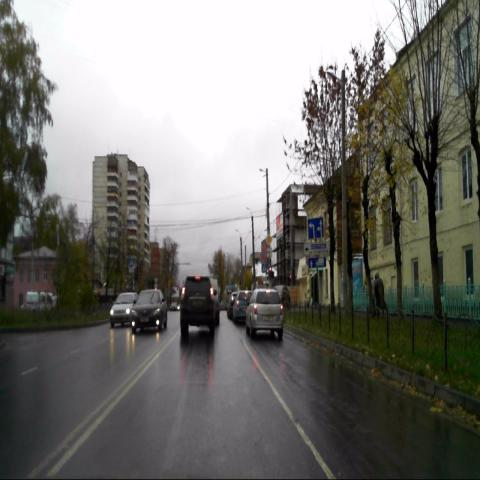5_15_2_2: (308, 218, 324, 239)
6_15_1: (308, 256, 326, 267)
